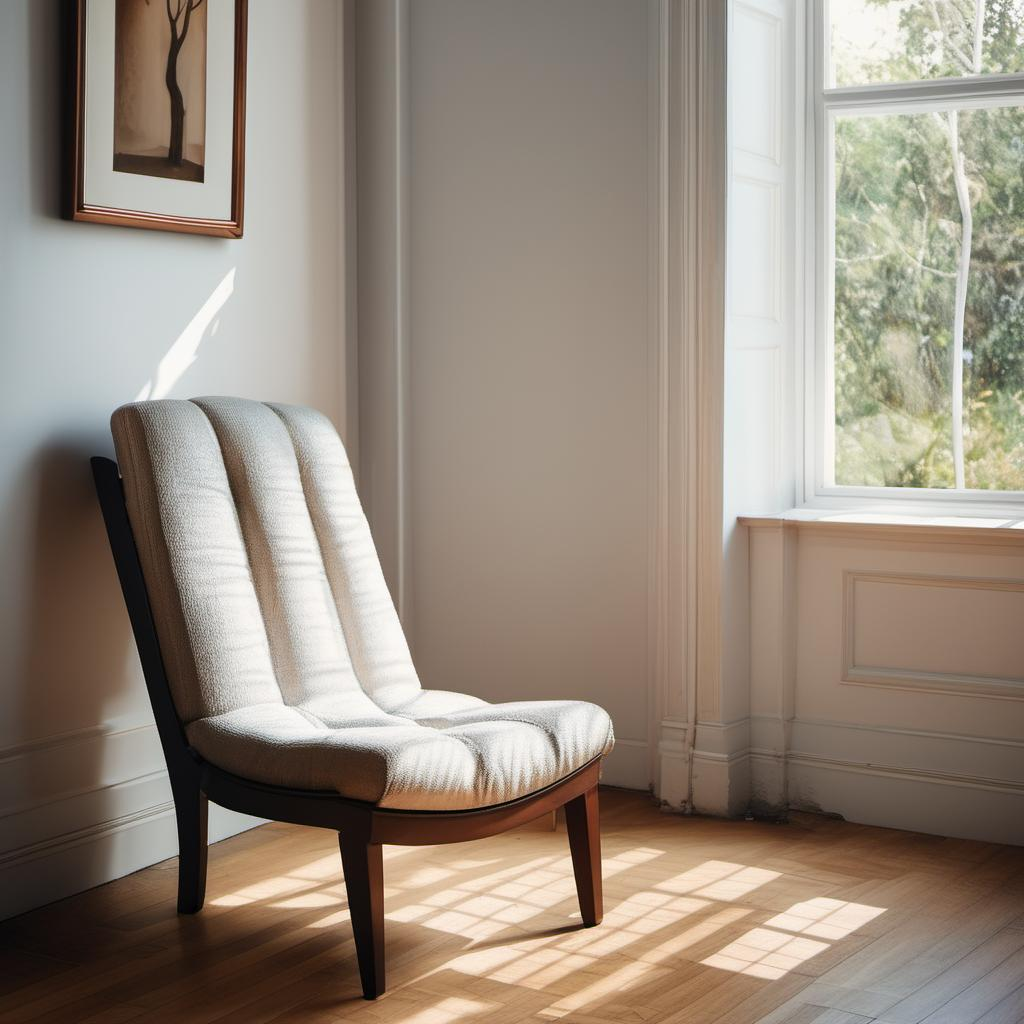chair_new: (79, 399, 619, 996)
